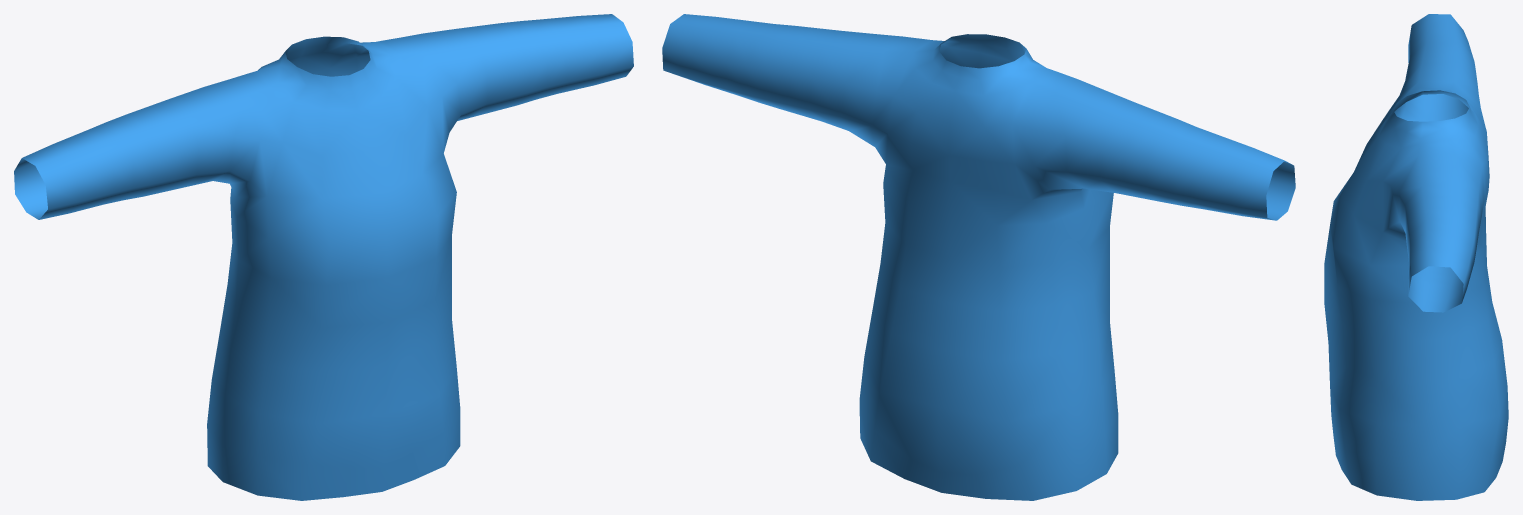
The model's file is Outerwear_Blue_007.glb.
The picture shows the model from 3 angles, left to right: view 1: azimuth 30°, elevation 25°; view 2: azimuth 150°, elevation 25°; view 3: azimuth 270°, elevation 25°; orthographic projection. The views are drawn at different scales.
Parts seen in each view (by area): view 1: Outerwear_Blue_007; view 2: Outerwear_Blue_007; view 3: Outerwear_Blue_007.
Part boxes in pixels (bbox=[...]): Outerwear_Blue_007: bbox=[14, 14, 633, 500]; Outerwear_Blue_007: bbox=[662, 14, 1295, 500]; Outerwear_Blue_007: bbox=[1324, 14, 1508, 500].
Bounding box in the file's own units: 1.22 × 0.8008 × 0.3763.
1 material, 1 textured.
